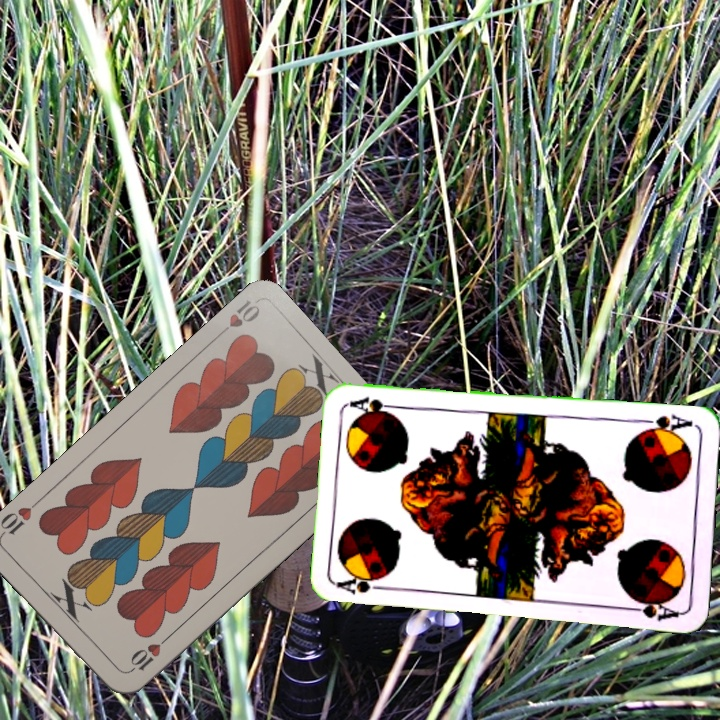H10: (211, 296, 263, 341), (124, 632, 172, 676)
SA: (636, 411, 695, 439), (334, 574, 393, 597)
